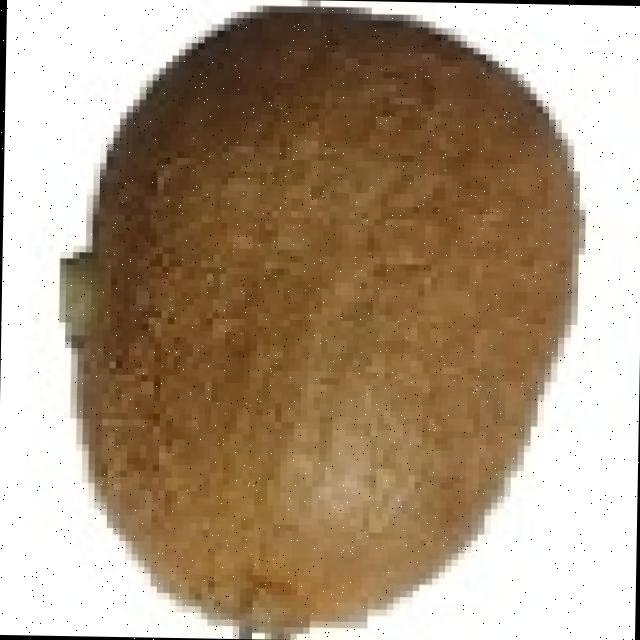kiwi: (77, 19, 590, 632)
